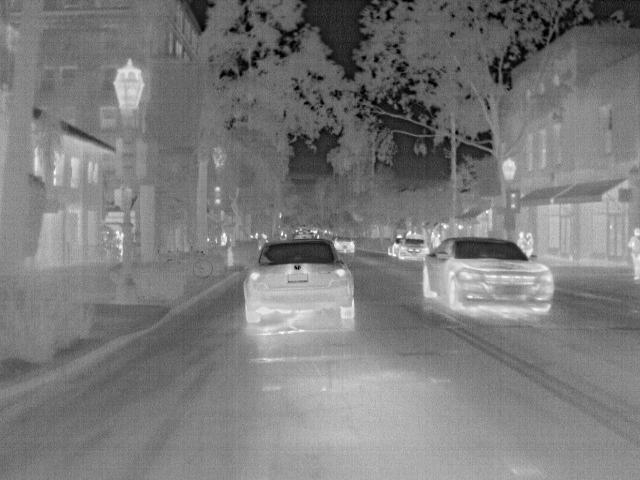car: (422, 237, 558, 314), (242, 237, 359, 326), (394, 236, 431, 262), (332, 236, 358, 256)
person: (627, 226, 640, 280), (522, 231, 536, 256), (515, 230, 529, 254), (217, 230, 229, 248)
